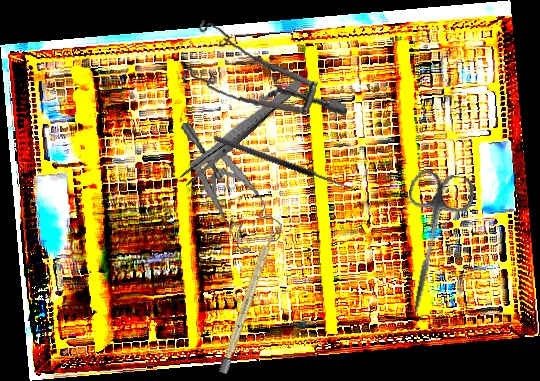Dressing Forceps: (177, 74, 305, 188)
Hook Surgical: (213, 127, 358, 193)
Iris Scissors: (386, 167, 477, 323)
Scalpel Handle: (218, 226, 277, 375)
Speculum: (176, 5, 348, 133), (178, 108, 287, 261)
